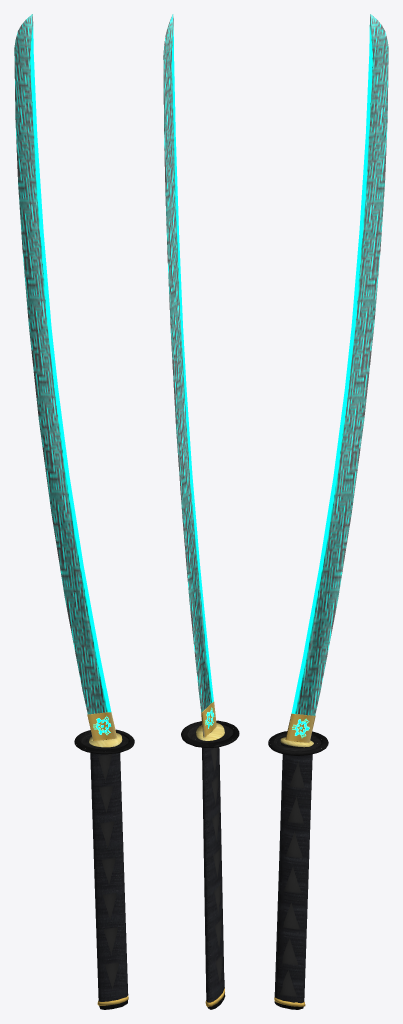
3 renders of one model, left to right at view 1: azimuth 90°, elevation 25°; view 2: azimuth 150°, elevation 25°; view 3: azimuth 270°, elevation 25°, orthographic. The views are drawn at different scales.
Visible parts, largest first — view 1: Body; view 2: Body; view 3: Body.
Boxes of the visible parts, left/top/right/bottom form: Body: left=14, top=14, right=134, bottom=1009; Body: left=163, top=14, right=239, bottom=1009; Body: left=268, top=14, right=388, bottom=1009.
Bounding box in the file's own units: 0.0717 × 1.41 × 0.1543.
1 material, 1 textured.
